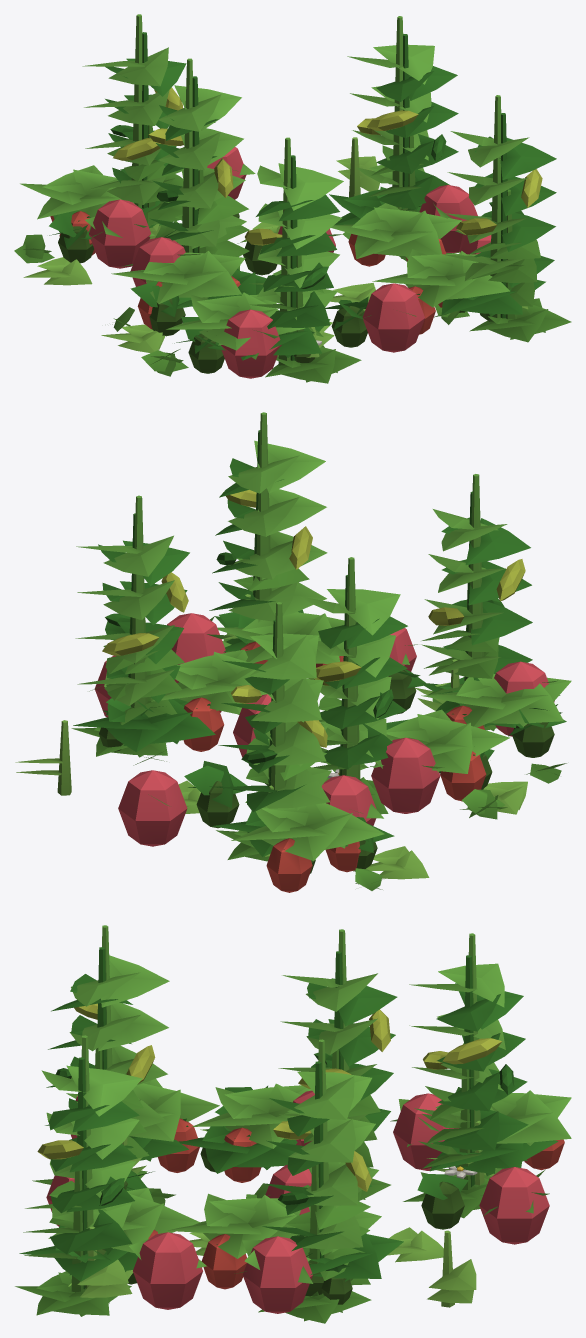
Rendered from crops-spring.glb.
3 renders of one model, top to bottom at view 1: azimuth 30°, elevation 25°; view 2: azimuth 150°, elevation 25°; view 3: azimuth 270°, elevation 25°, orthographic. The views are drawn at different scales.
Visible parts, largest first — view 1: SM_crop_pea_s4, SM_crop_pea_s3, SM_crop_strawberry_s4, SM_crop_radish_s4, SM_crop_pea_s2, SM_crop_radish_s3, SM_crop_strawberry_s3, SM_crop_strawberry_s2, SM_crop_strawberry_s1, SM_crop_radish_s2, SM_crop_pea_s1; view 2: SM_crop_pea_s4, SM_crop_strawberry_s4, SM_crop_pea_s3, SM_crop_radish_s4, SM_crop_radish_s3, SM_crop_pea_s2, SM_crop_strawberry_s3, SM_crop_strawberry_s1, SM_crop_strawberry_s2, SM_crop_radish_s2, SM_crop_pea_s1; view 3: SM_crop_pea_s4, SM_crop_pea_s3, SM_crop_strawberry_s4, SM_crop_radish_s4, SM_crop_strawberry_s3, SM_crop_pea_s2, SM_crop_strawberry_s2, SM_crop_pea_s1, SM_crop_radish_s3, SM_crop_strawberry_s1, SM_crop_radish_s2.
Boxes of the visible parts, left/top/right/bottom form: SM_crop_pea_s4: left=82, top=14, right=542, bottom=365; SM_crop_pea_s3: left=105, top=32, right=556, bottom=360; SM_crop_strawberry_s4: left=20, top=165, right=509, bottom=350; SM_crop_radish_s4: left=85, top=147, right=491, bottom=378; SM_crop_pea_s2: left=124, top=125, right=540, bottom=336; SM_crop_radish_s3: left=49, top=194, right=490, bottom=373; SM_crop_strawberry_s3: left=141, top=187, right=545, bottom=362; SM_crop_strawberry_s2: left=156, top=221, right=571, bottom=383; SM_crop_strawberry_s1: left=23, top=222, right=375, bottom=352; SM_crop_radish_s2: left=14, top=232, right=469, bottom=376; SM_crop_pea_s1: left=149, top=137, right=528, bottom=357; SM_crop_pea_s4: left=75, top=412, right=525, bottom=810; SM_crop_strawberry_s4: left=151, top=611, right=571, bottom=892; SM_crop_pea_s3: left=98, top=430, right=532, bottom=812; SM_crop_radish_s4: left=89, top=613, right=557, bottom=846; SM_crop_radish_s3: left=106, top=612, right=566, bottom=871; SM_crop_pea_s2: left=105, top=534, right=499, bottom=802; SM_crop_strawberry_s3: left=73, top=609, right=560, bottom=873; SM_crop_strawberry_s1: left=178, top=780, right=527, bottom=879; SM_crop_strawberry_s2: left=71, top=633, right=496, bottom=861; SM_crop_radish_s2: left=133, top=750, right=566, bottom=890; SM_crop_pea_s1: left=15, top=594, right=459, bottom=856; SM_crop_pea_s4: left=37, top=925, right=505, bottom=1257; SM_crop_pea_s3: left=45, top=947, right=528, bottom=1289; SM_crop_strawberry_s4: left=48, top=1078, right=571, bottom=1289; SM_crop_radish_s4: left=43, top=1090, right=549, bottom=1313; SM_crop_strawberry_s3: left=19, top=1126, right=558, bottom=1304; SM_crop_pea_s2: left=23, top=1043, right=483, bottom=1296; SM_crop_strawberry_s2: left=15, top=1166, right=491, bottom=1323; SM_crop_pea_s1: left=77, top=1120, right=494, bottom=1307; SM_crop_radish_s3: left=68, top=1086, right=468, bottom=1296; SM_crop_strawberry_s1: left=189, top=1129, right=443, bottom=1262; SM_crop_radish_s2: left=148, top=1183, right=370, bottom=1285.
Bounding box in the file's own units: 1.35 × 0.78 × 1.53.
